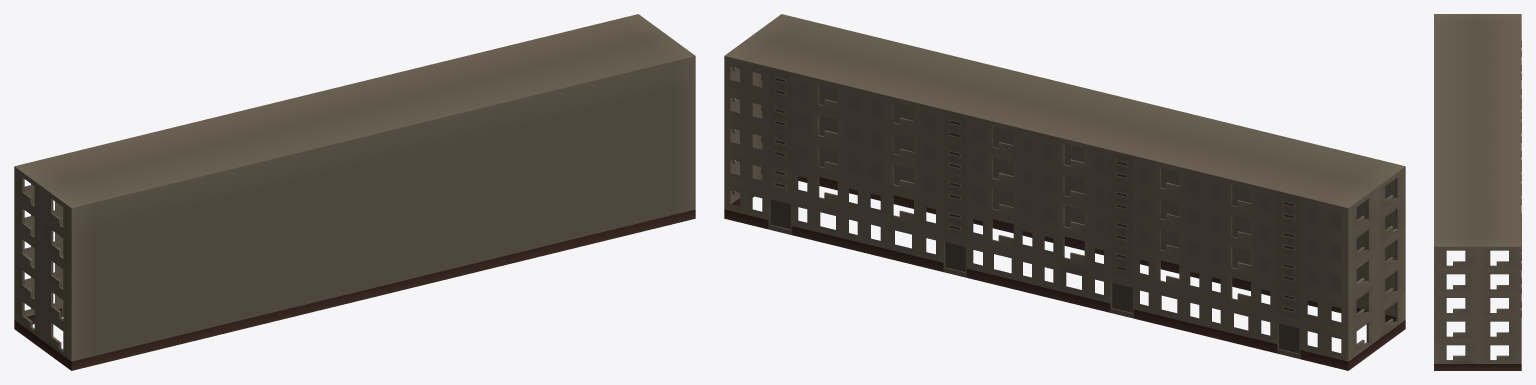
Rendered from Khrushchyovka.fbx.
3 renders of one model, left to right at view 1: azimuth 30°, elevation 25°; view 2: azimuth 150°, elevation 25°; view 3: azimuth 270°, elevation 25°, orthographic. The views are drawn at different scales.
Visible parts, largest first — view 1: Star Fasad; view 2: Star Fasad; view 3: Star Fasad.
Part boxes in pixels (box(x1,y1,x2,y2)): Star Fasad: box(14, 14, 695, 370); Star Fasad: box(724, 14, 1405, 370); Star Fasad: box(1434, 14, 1521, 370).
Size of the model in its own units: 15387 by 3834 by 2455.
